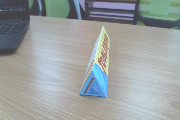Chocolate: (72, 23, 122, 105)
